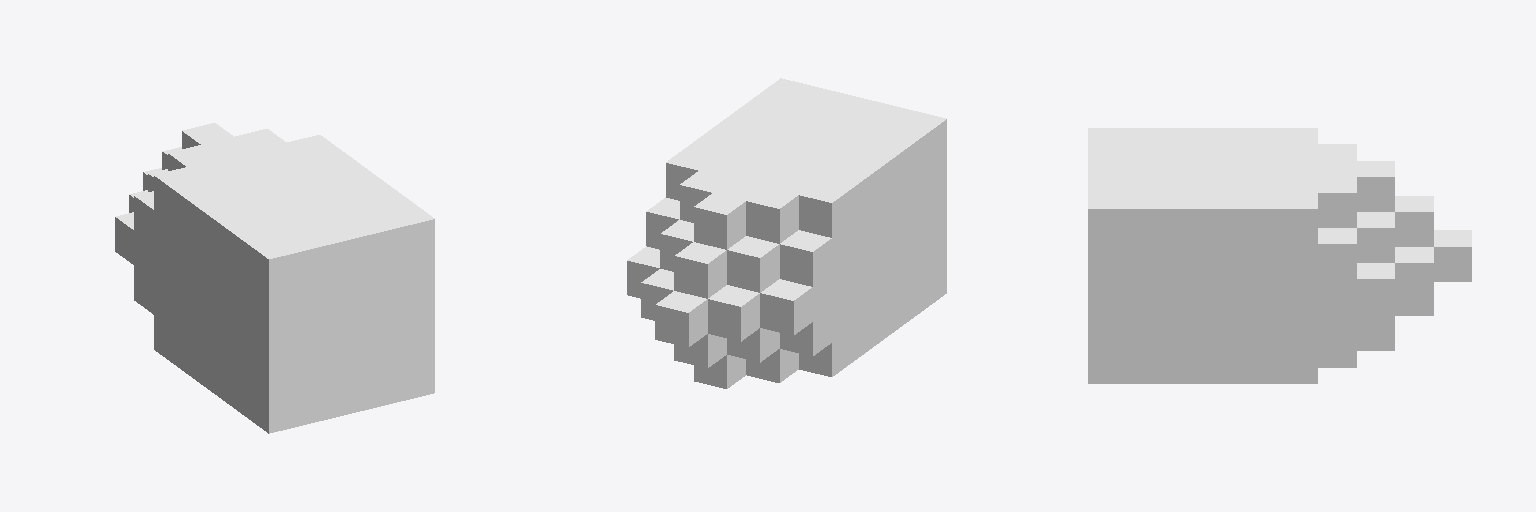
The model's file is pulka.obj.
The picture shows the model from 3 angles: view 1: azimuth 30°, elevation 25°; view 2: azimuth 150°, elevation 25°; view 3: azimuth 270°, elevation 25°; orthographic projection.
Visible parts, largest first — view 1: object 1; view 2: object 1; view 3: object 1.
Boxes of the visible parts, x1,y1,x2,y2 form: object 1: [115, 123, 434, 433]; object 1: [627, 78, 946, 388]; object 1: [1088, 128, 1471, 383].
Bounding box in the file's own units: 0.5 × 0.5 × 1.